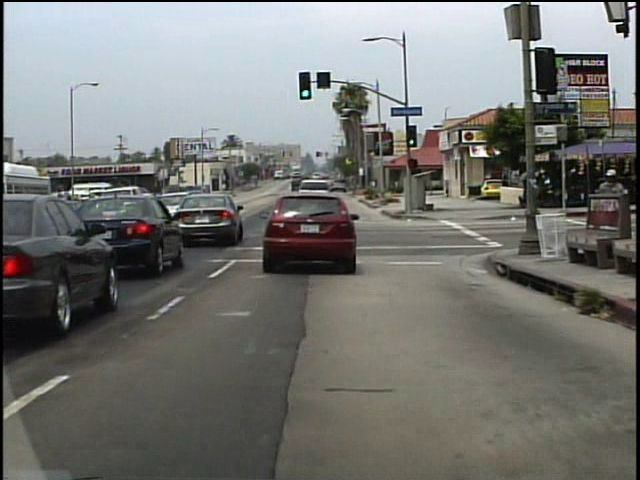person: (590, 165, 626, 256), (498, 173, 510, 207)
